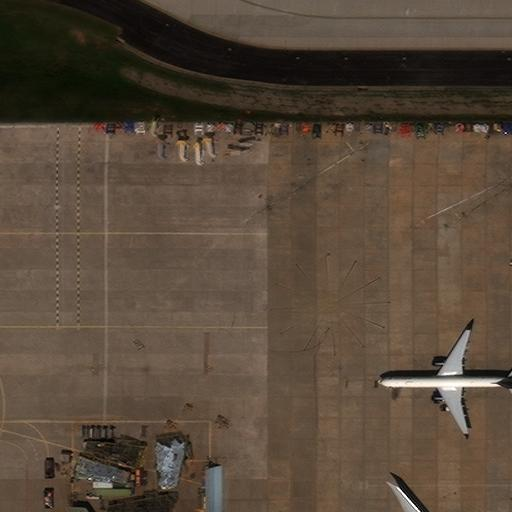Large Civil Transport: (374, 329, 511, 435), (366, 486, 451, 512)
